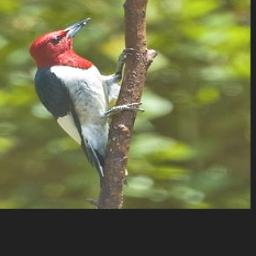Woodpecker: (27, 18, 143, 184)
